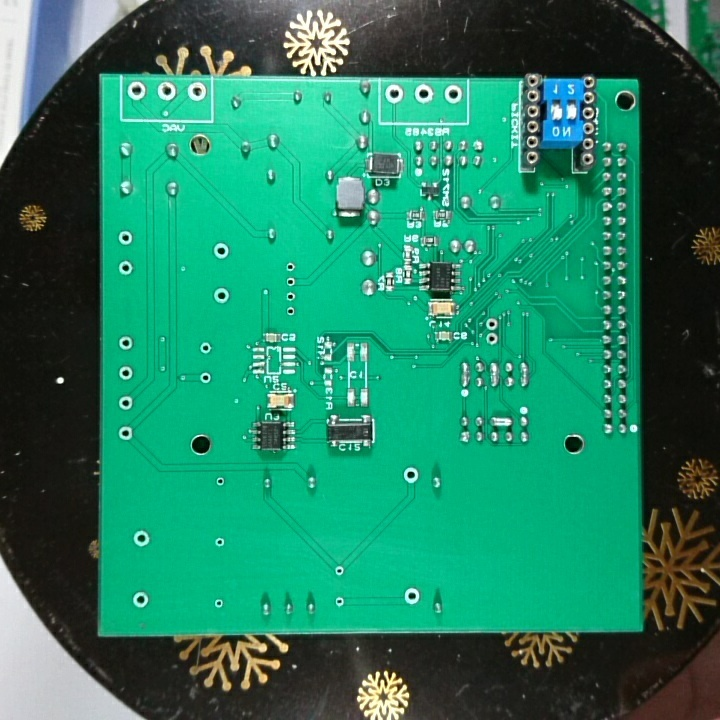F: (411, 81, 437, 107), (440, 81, 465, 106), (154, 79, 178, 105), (125, 79, 150, 103), (383, 83, 408, 106), (185, 79, 208, 103), (210, 285, 233, 307), (131, 527, 152, 551), (401, 586, 422, 608), (116, 392, 137, 414), (115, 332, 137, 353), (211, 240, 232, 262), (116, 362, 137, 383), (131, 588, 151, 610), (115, 423, 136, 443), (115, 228, 135, 249), (401, 465, 420, 487), (196, 340, 215, 358), (196, 368, 214, 387), (117, 258, 134, 278), (211, 533, 228, 552), (483, 329, 502, 346), (212, 472, 228, 492), (482, 316, 501, 332), (211, 595, 228, 612), (282, 304, 299, 321), (281, 258, 298, 275), (280, 275, 300, 289), (332, 593, 348, 610), (331, 563, 347, 580), (282, 289, 298, 303)
P: (485, 358, 501, 390), (517, 359, 533, 390), (488, 413, 515, 430), (458, 360, 471, 389)
